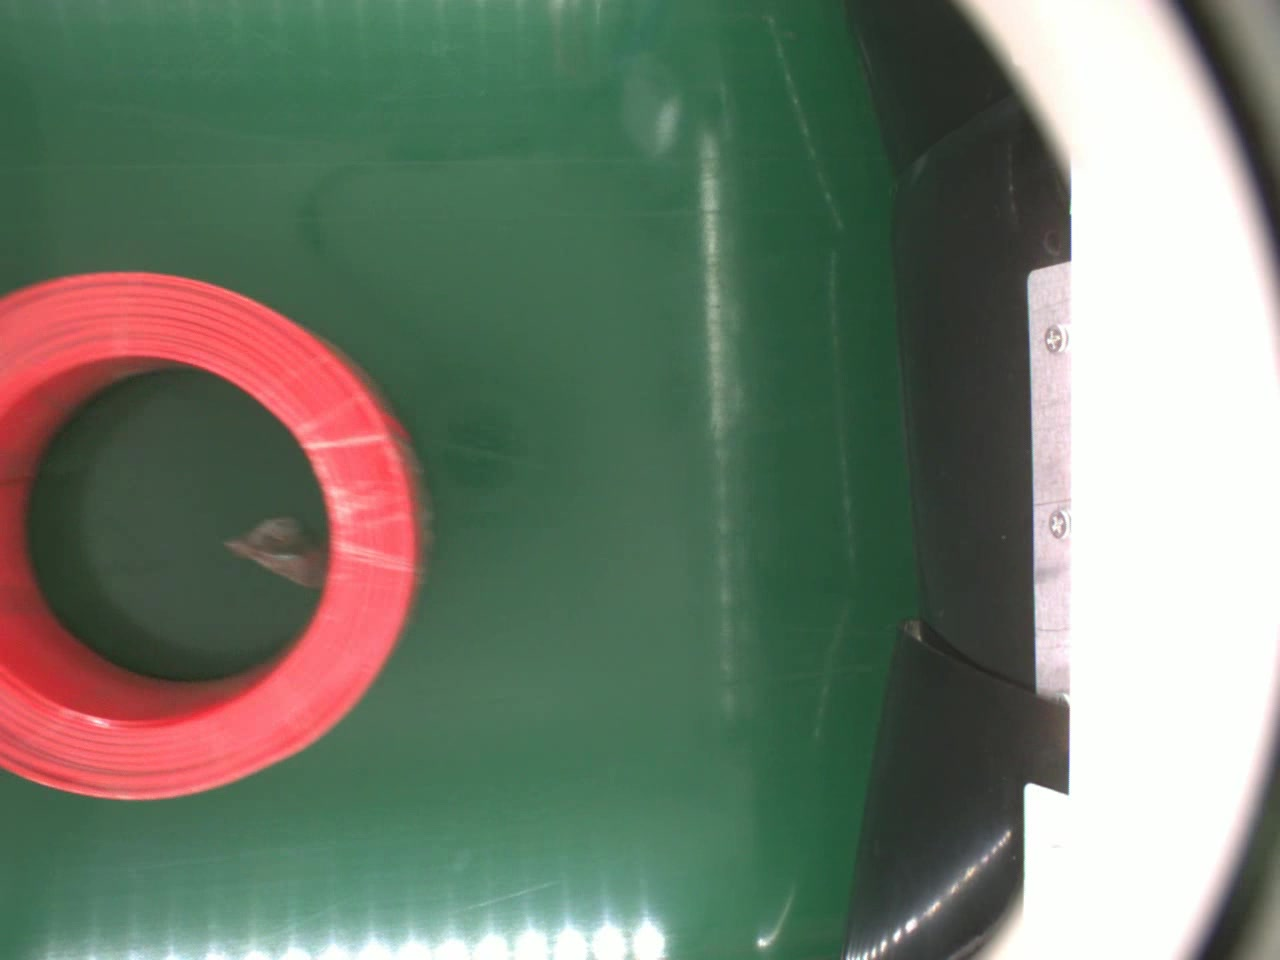red: (0, 265, 435, 808)
